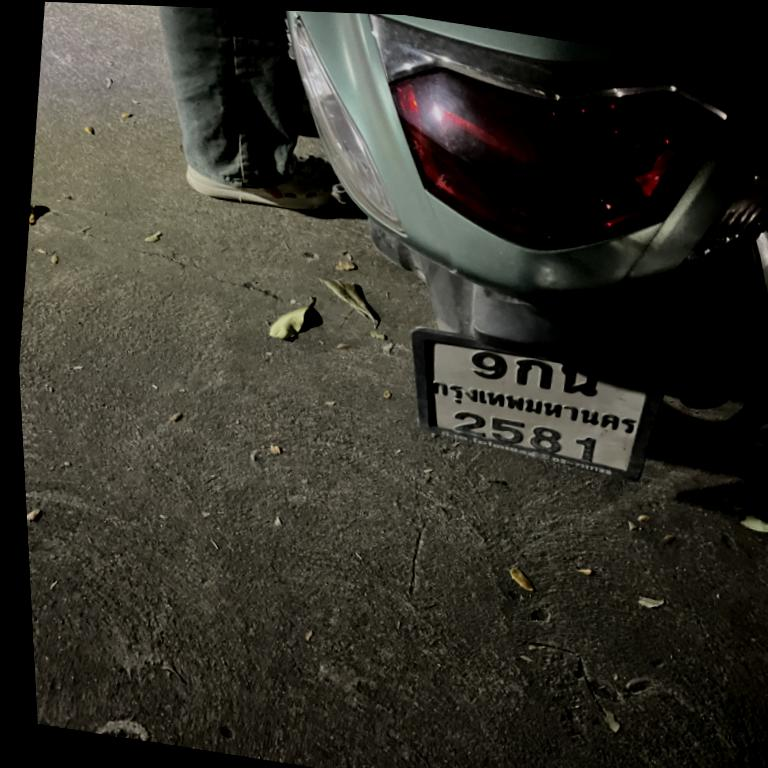license plate: (397, 322, 671, 486)
